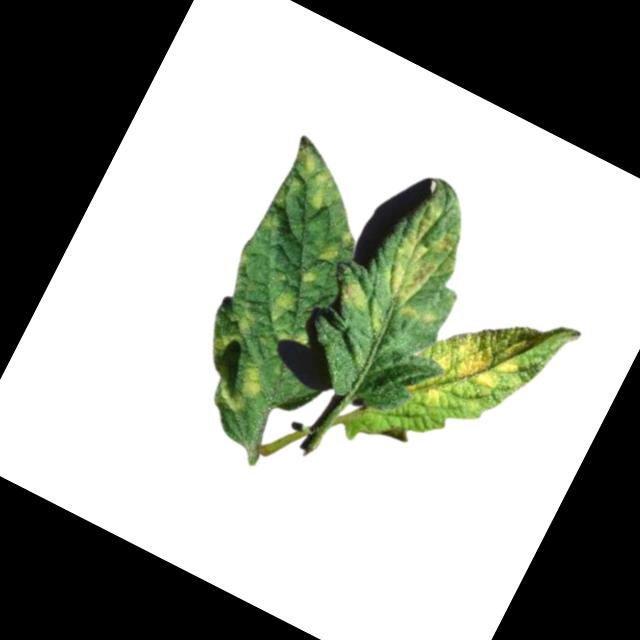Leaf_Mold: (401, 287, 540, 435), (370, 196, 483, 329), (271, 135, 355, 214), (204, 351, 267, 420), (206, 300, 257, 359), (330, 273, 376, 318), (315, 221, 356, 270), (262, 282, 301, 324)
